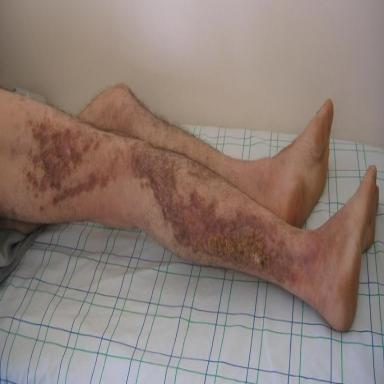Darier_s-Disease: (127, 143, 301, 287), (23, 116, 125, 208), (186, 157, 216, 184)
